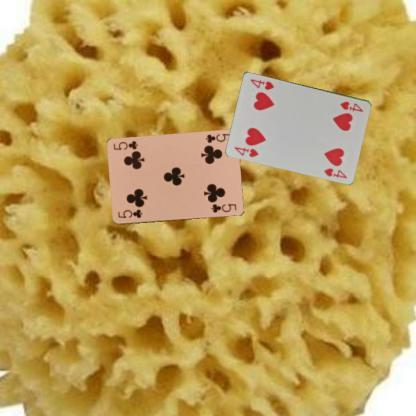4h: (232, 144, 260, 158), (338, 98, 364, 112)
5c: (203, 131, 232, 145), (116, 207, 144, 219)
